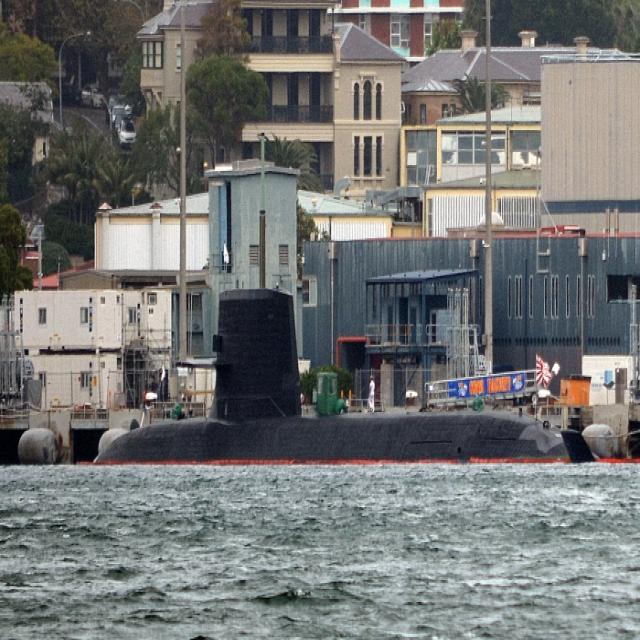submarine: (90, 284, 640, 467)
